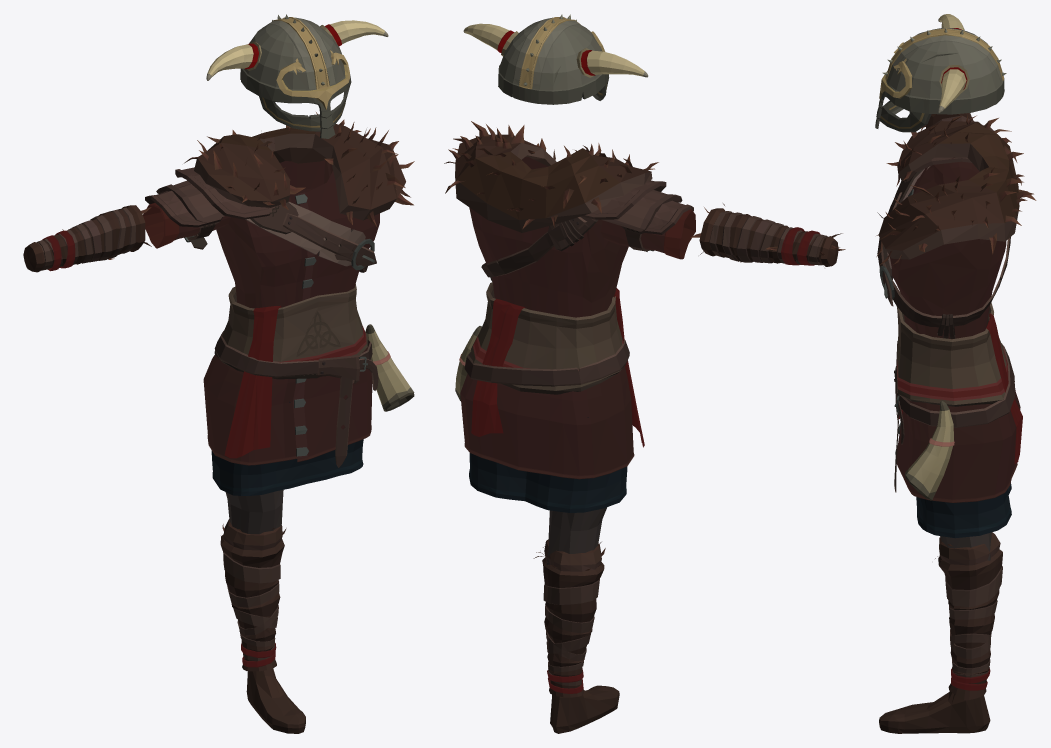
The model's file is vikingArmorDetailedFemale.glb.
The picture shows the model from 3 angles, left to right: view 1: azimuth 30°, elevation 25°; view 2: azimuth 150°, elevation 25°; view 3: azimuth 270°, elevation 25°; orthographic projection. The views are drawn at different scales.
Parts seen in each view (by area): view 1: vikingArmorBodyDetailed.001, vikingHelmetDetailed, vikingArmorBootLowerLeg, vikingArmorWristGuardLowerArm, vikingArmorUpperArm.001, vikingArmorBootFoot, vikingArmorPants; view 2: vikingArmorBodyDetailed.001, vikingHelmetDetailed, vikingArmorBootLowerLeg, vikingArmorWristGuardLowerArm, vikingArmorUpperArm.001, vikingArmorBootFoot, vikingArmorPants; view 3: vikingArmorBodyDetailed.001, vikingHelmetDetailed, vikingArmorBootLowerLeg, vikingArmorBootFoot, vikingArmorUpperArm.001, vikingArmorPants.
Boxes of the visible parts, x1,y1,x2,y2 form: vikingArmorBodyDetailed.001: [156, 112, 414, 495]; vikingHelmetDetailed: [206, 14, 388, 138]; vikingArmorBootLowerLeg: [220, 519, 286, 671]; vikingArmorWristGuardLowerArm: [23, 205, 151, 272]; vikingArmorUpperArm.001: [143, 184, 230, 249]; vikingArmorBootFoot: [246, 668, 305, 733]; vikingArmorPants: [225, 490, 283, 534]; vikingArmorBodyDetailed.001: [444, 121, 682, 512]; vikingHelmetDetailed: [463, 14, 648, 104]; vikingArmorBootLowerLeg: [533, 539, 605, 697]; vikingArmorWristGuardLowerArm: [690, 203, 845, 266]; vikingArmorUpperArm.001: [600, 195, 695, 259]; vikingArmorBootFoot: [550, 685, 619, 733]; vikingArmorPants: [546, 507, 606, 564]; vikingArmorBodyDetailed.001: [876, 115, 1036, 538]; vikingHelmetDetailed: [875, 14, 1006, 132]; vikingArmorBootLowerLeg: [935, 532, 1002, 699]; vikingArmorBootFoot: [879, 691, 990, 733]; vikingArmorUpperArm.001: [933, 115, 979, 185]; vikingArmorPants: [940, 532, 991, 560].
Bounding box in the file's own units: 1.16 × 1.93 × 0.3971.
